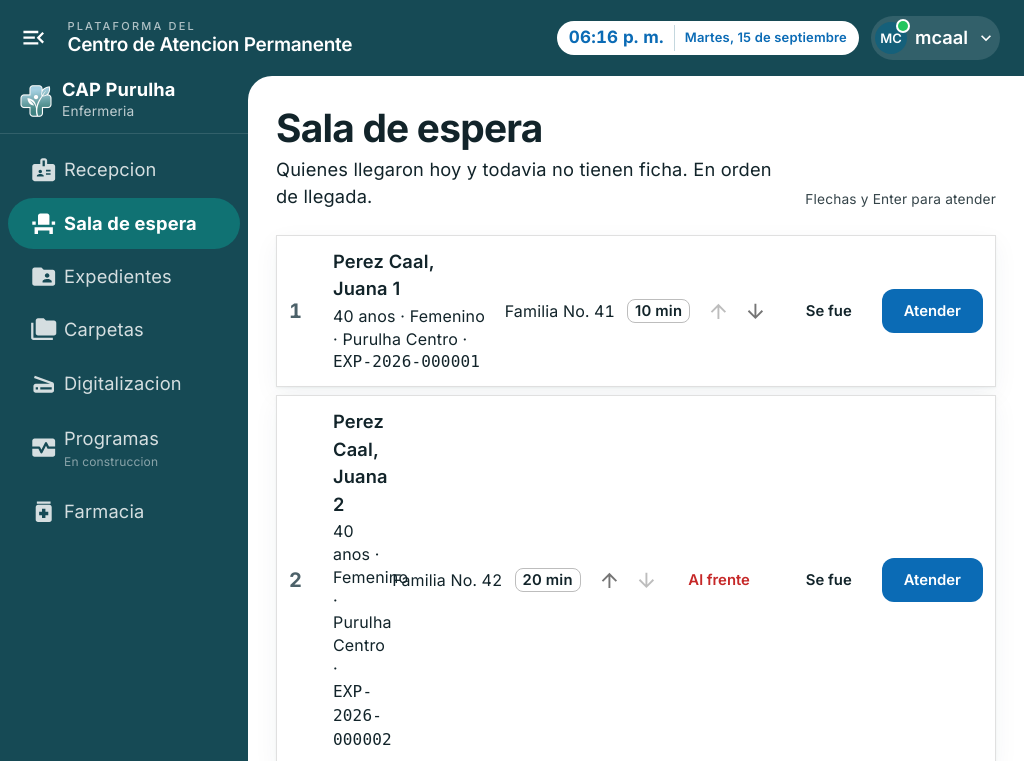
Test case: sala de espera › quien hace que › cambiar el turno › pasar al frente pide el motivo y lo manda con la posicion 1
Check: the text "Perez Caal, Juana 2" is shown, box [333, 408, 380, 518]
Click the button "Al frente" at (719, 580), box [666, 558, 772, 602]
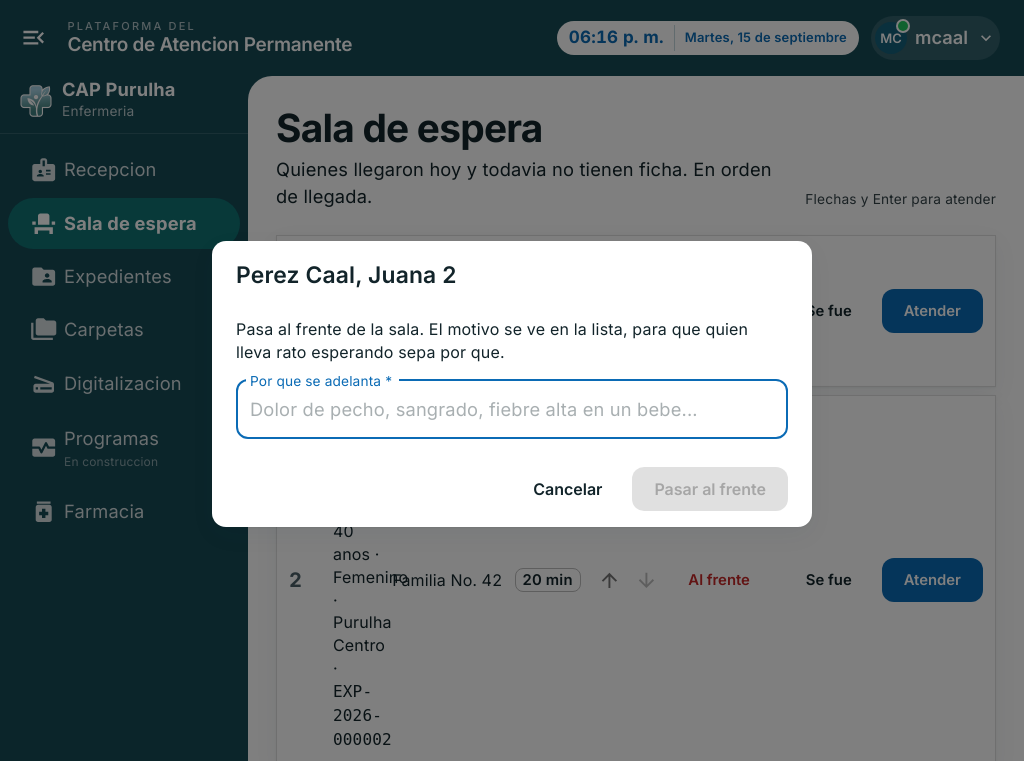
Check: the button "Pasar al frente" is disabled, box [632, 467, 788, 511]
Type "Dolor de pecho" into the field labelled "Por que se adelanta *" at (512, 409), box [236, 380, 788, 439]
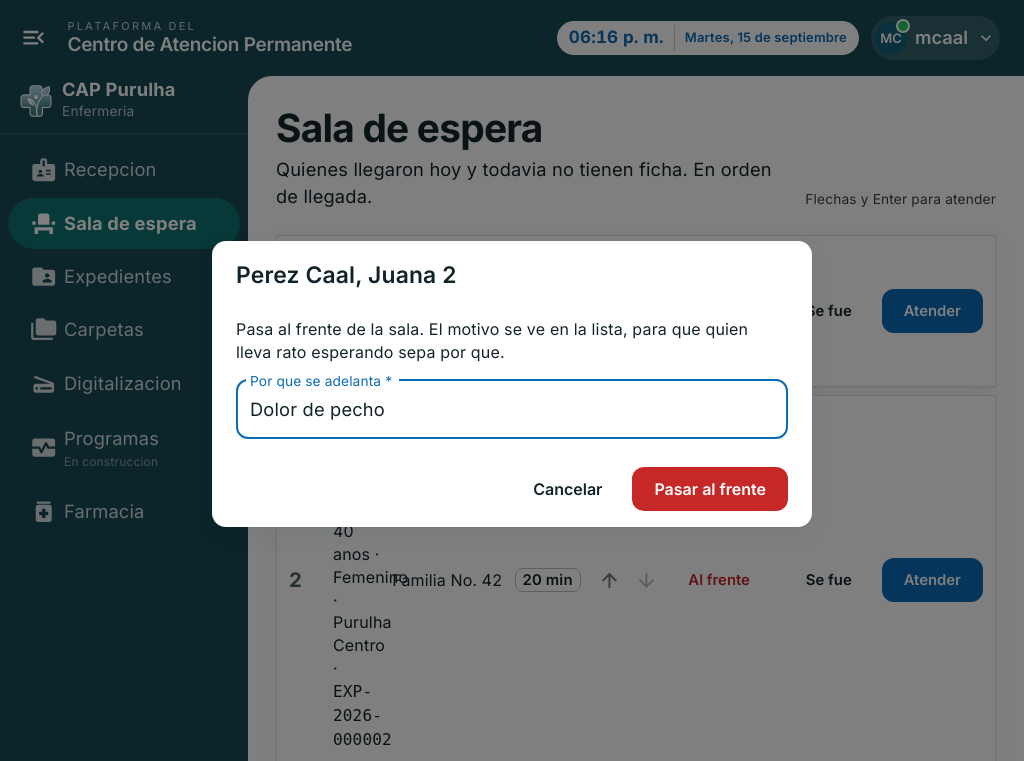
Click the button "Pasar al frente" at (710, 489), box [632, 467, 788, 511]
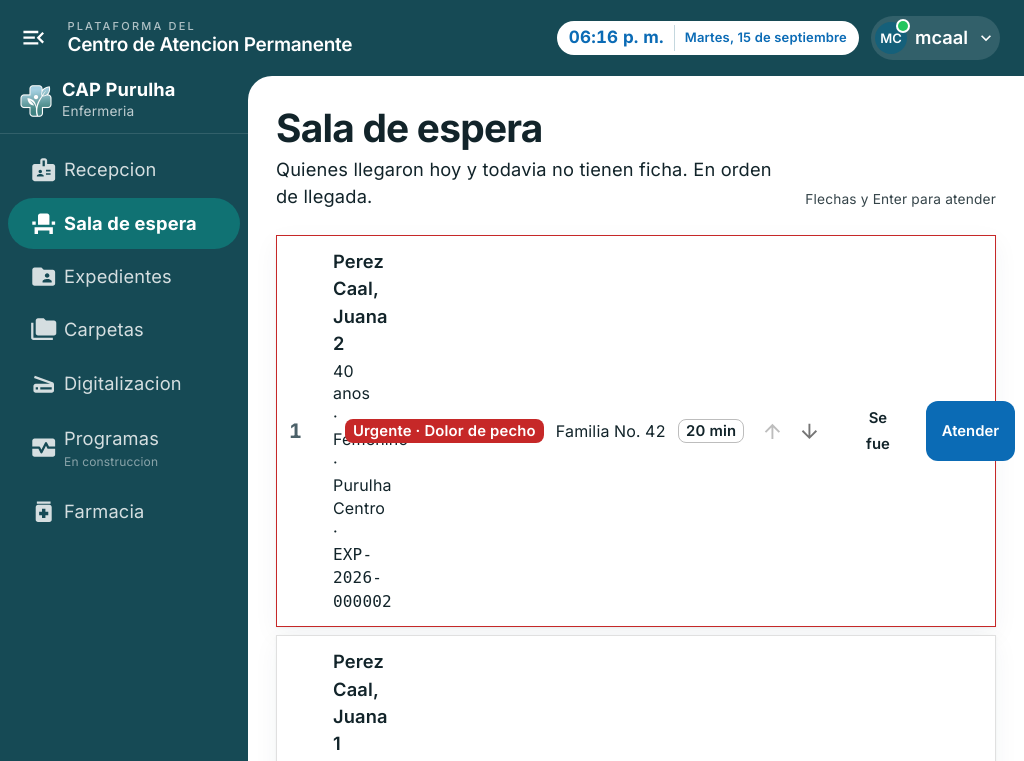
Check: the text "Urgente · Dolor de pecho" is shown, box [345, 420, 544, 442]
